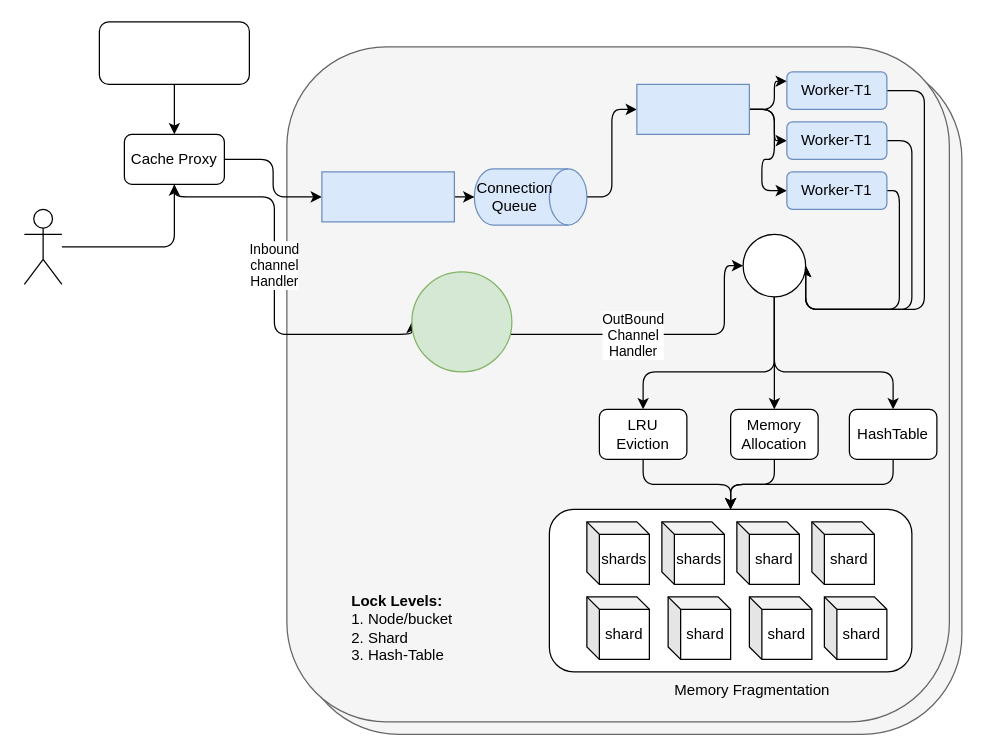
Some shapes in this 984 by 756 pixel diagram are drawn without their labels. Here are the shapes that lost their labels. From the top down, the centre of each, then its label:
At pixel 173 52: "etcd zookeeper Configure Manager".
At pixel 692 108: "Thread Pool".
At pixel 387 196: "Acceptor Threads".
At pixel 42 246: "Cache Client".
At pixel 774 265: "Handler".
At pixel 461 321: "Event Loop".
